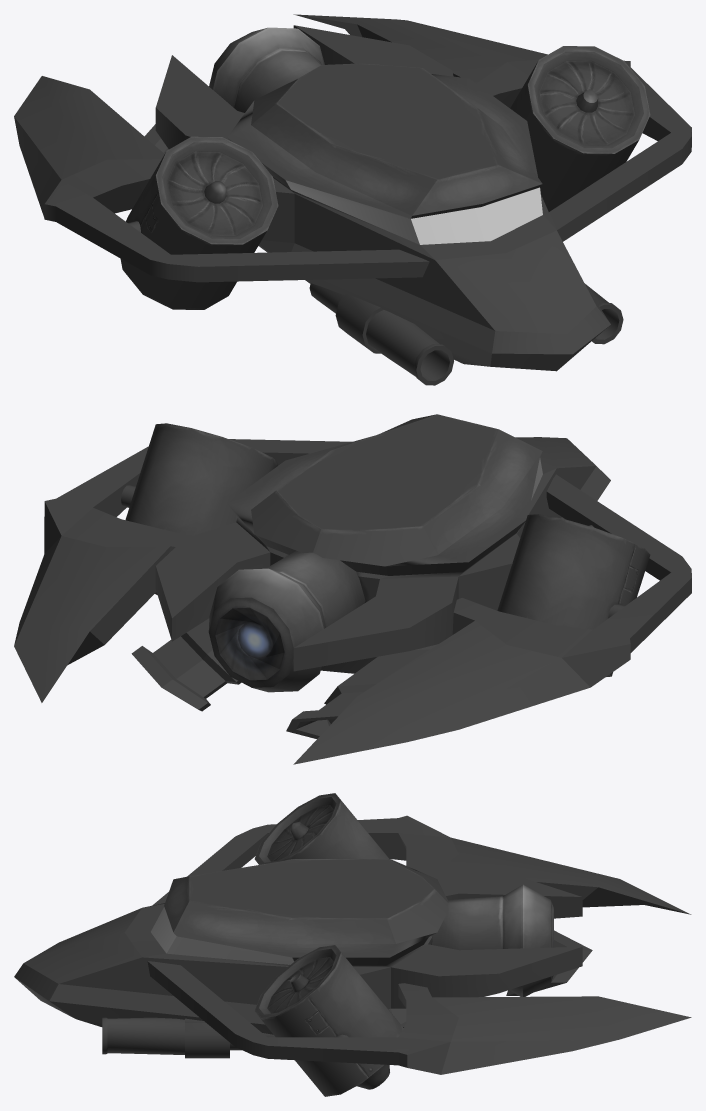
File: spaceship.fbx
The picture shows the model from 3 angles, top to bottom: view 1: azimuth 30°, elevation 25°; view 2: azimuth 150°, elevation 25°; view 3: azimuth 270°, elevation 25°; orthographic projection. The views are drawn at different scales.
Parts seen in each view (by area): view 1: spaceShip; view 2: spaceShip; view 3: spaceShip.
Boxes of the visible parts, <box> form: spaceShip: <box>14,14,691,385</box>; spaceShip: <box>14,414,691,764</box>; spaceShip: <box>14,793,691,1096</box>.
Size of the model in its own units: 7.22 by 2.07 by 8.64.
1 material, 1 textured.
